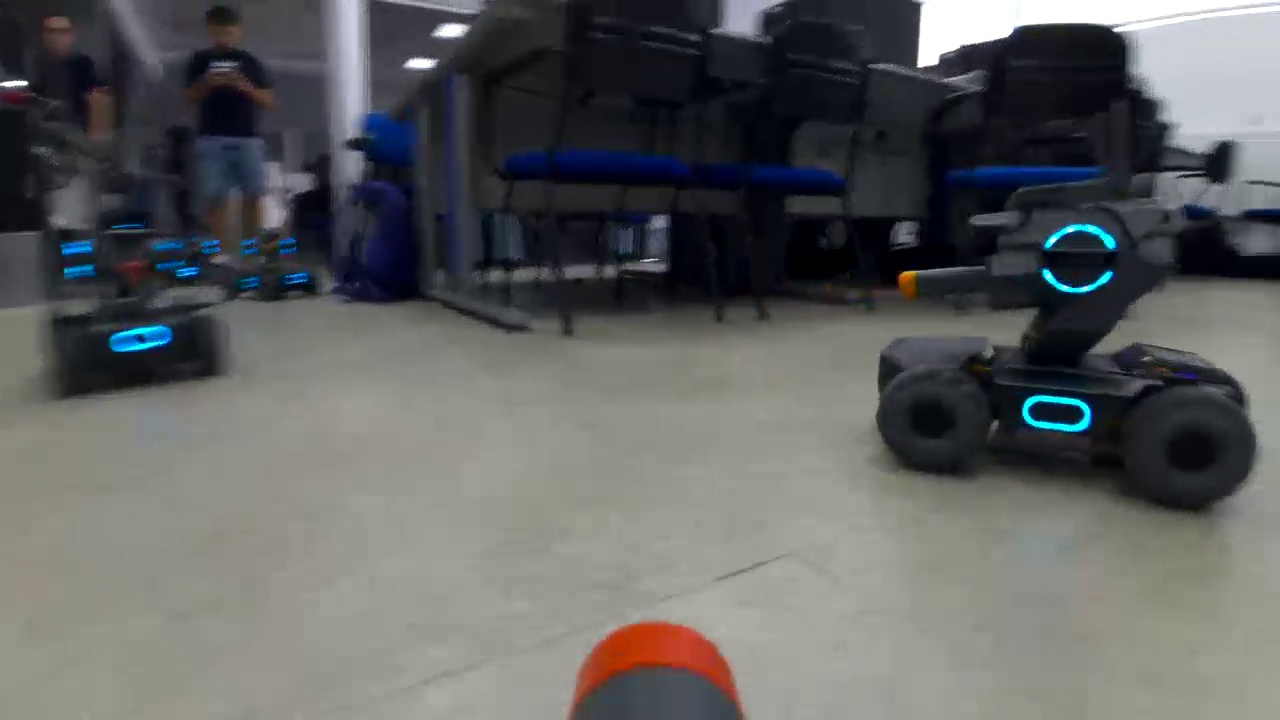robot: (856, 169, 1258, 520), (42, 210, 233, 396), (231, 222, 322, 305), (161, 221, 230, 292)
